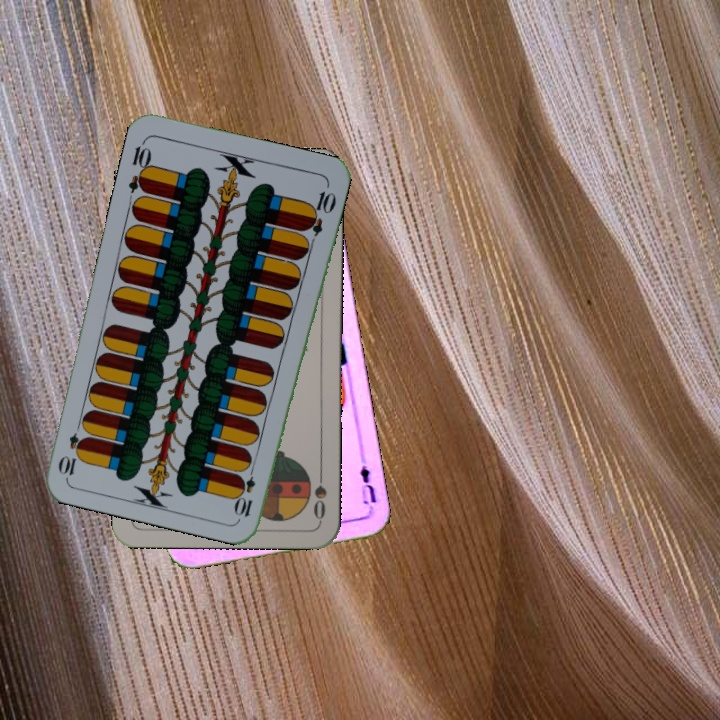E10: (124, 136, 154, 195), (233, 460, 259, 519)
EU: (355, 454, 379, 513)
SO: (310, 464, 329, 522)
